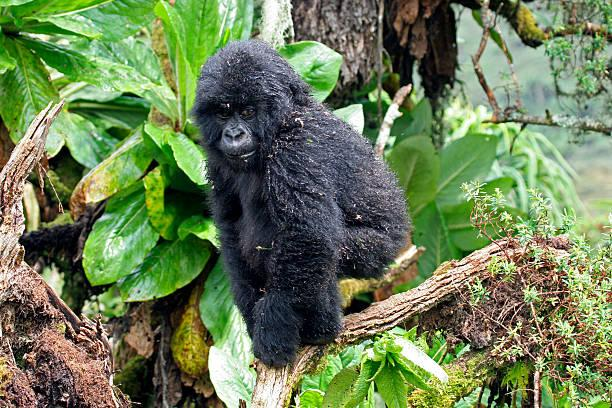goriile_montagne: (179, 18, 416, 356)
